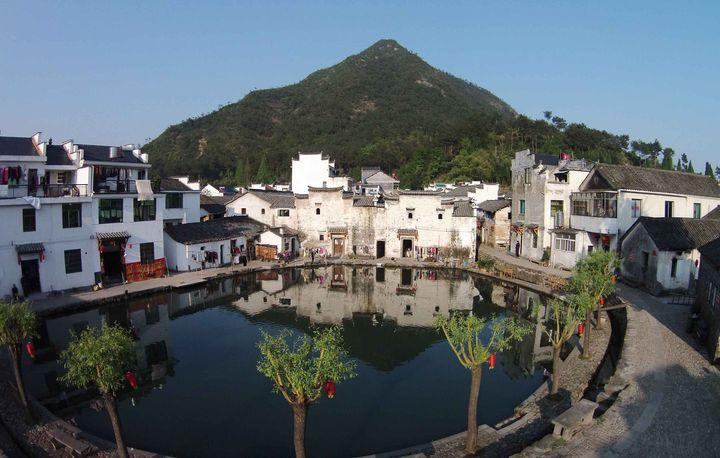buildings: (19, 128, 157, 282)
mountain: (153, 47, 538, 194)
